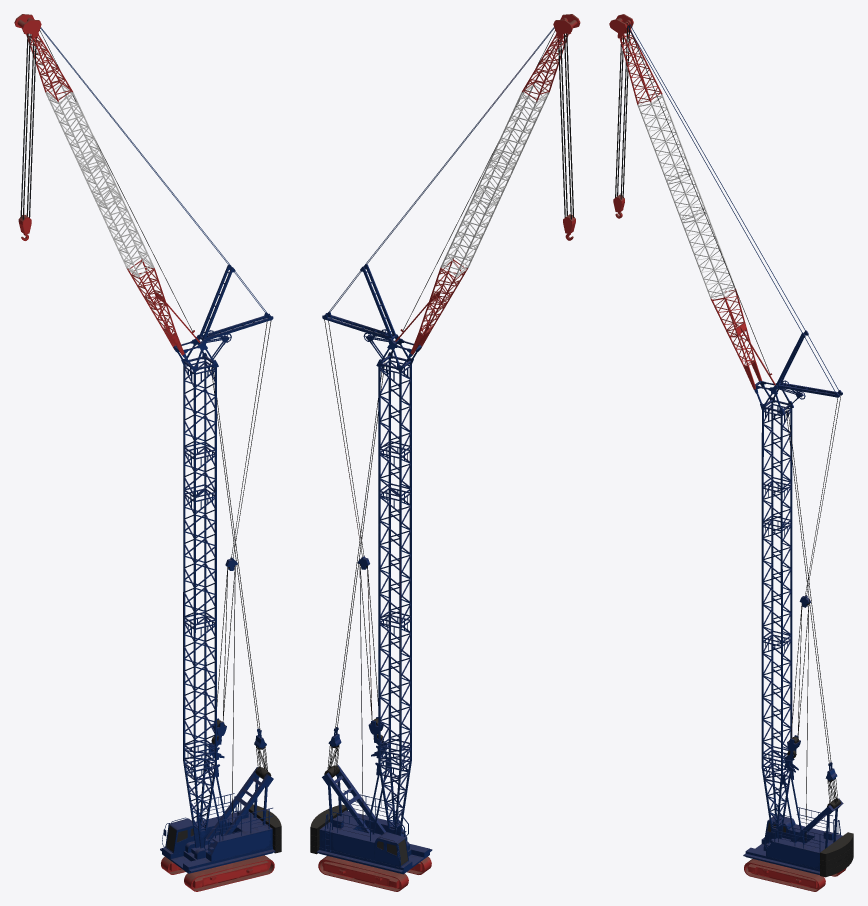
The model's file is crane.glb.
3 views of the same model, side by side, from view 1: azimuth 30°, elevation 25°; view 2: azimuth 150°, elevation 25°; view 3: azimuth 330°, elevation 25° (orthographic). The views are drawn at different scales.
Parts seen in each view (by area): view 1: Object_21 - Default_0; view 2: Object_21 - Default_0; view 3: Object_21 - Default_0.
Boxes of the visible parts, box(x1,y1,x2,y2) form: Object_21 - Default_0: box(14, 14, 281, 891); Object_21 - Default_0: box(310, 14, 580, 891); Object_21 - Default_0: box(609, 14, 853, 891).
Bounding box in the file's own units: 0.6382 × 2.15 × 0.1354.
1 material, 1 textured.
